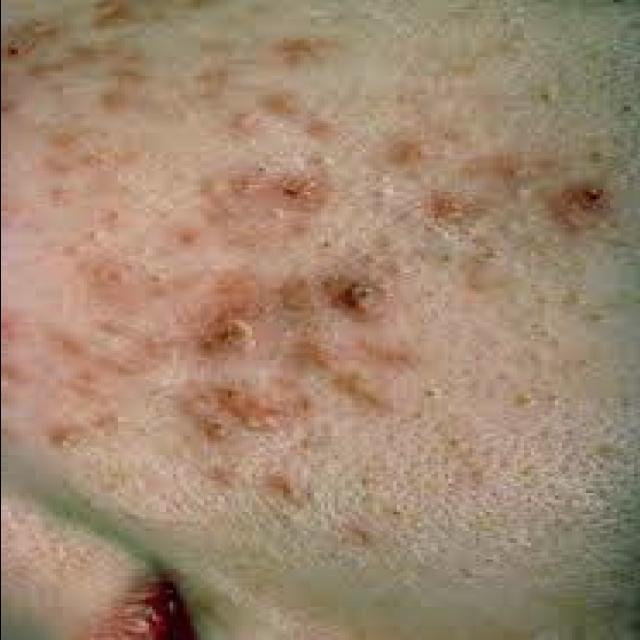Acne: (187, 262, 313, 364), (178, 374, 318, 444), (541, 174, 627, 243), (313, 264, 396, 324), (265, 155, 341, 215), (271, 28, 352, 72)
